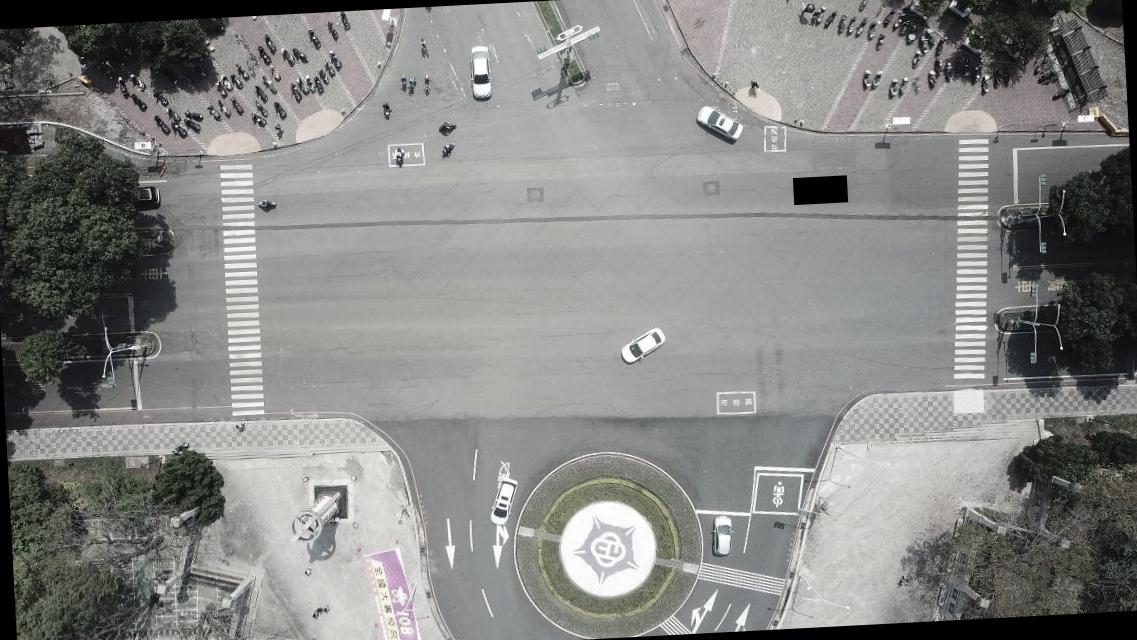vehicle: (616, 324, 668, 368), (694, 102, 745, 142), (486, 474, 521, 528), (468, 45, 494, 104), (710, 514, 734, 559)
